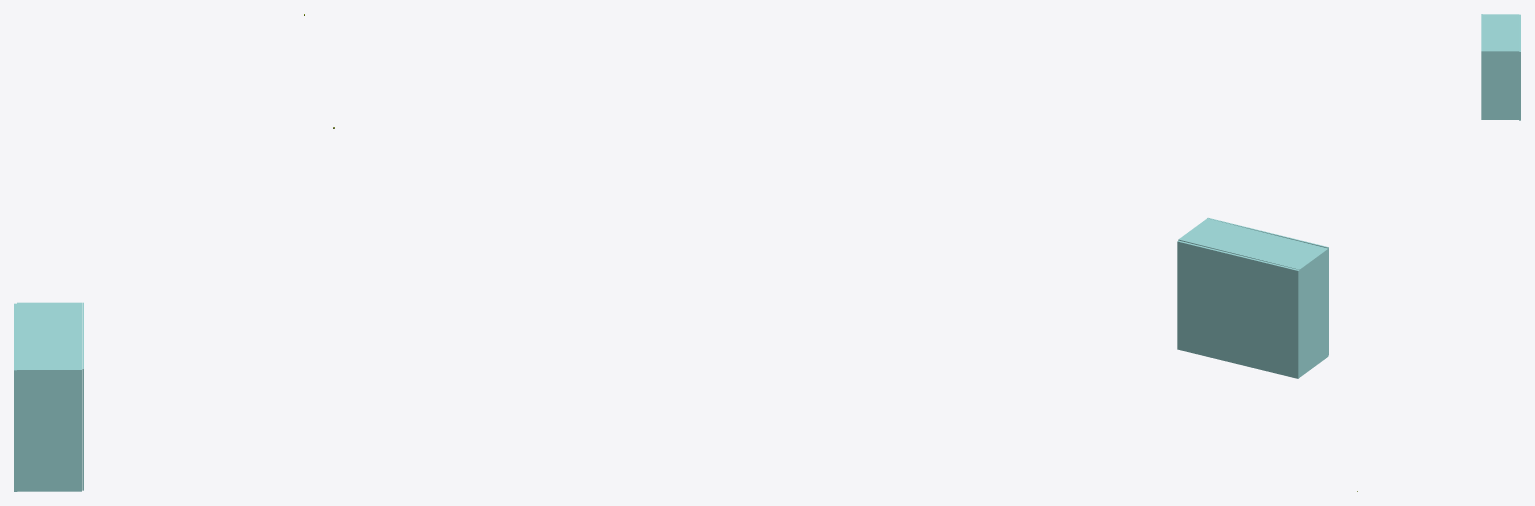
File: lib0.1.obj
3 views of the same model, side by side, from view 1: azimuth 90°, elevation 25°; view 2: azimuth 150°, elevation 25°; view 3: azimuth 270°, elevation 25° (orthographic). The views are drawn at different scales.
Visible parts, largest first — view 1: Wall001, Box001, Box010; view 2: Box001, Wall001; view 3: Wall001, Box001, Box010.
Boxes of the visible parts, box(x1,y1,x2,y2) form: Wall001: box(17, 302, 81, 491); Box001: box(14, 303, 16, 491); Box010: box(82, 302, 83, 490); Box001: box(1177, 240, 1299, 378); Wall001: box(1178, 218, 1328, 377); Wall001: box(1482, 14, 1519, 119); Box001: box(1519, 14, 1520, 120); Box010: box(1481, 14, 1482, 119).
Bounding box in the file's own units: 20719 × 3978 × 4235.
